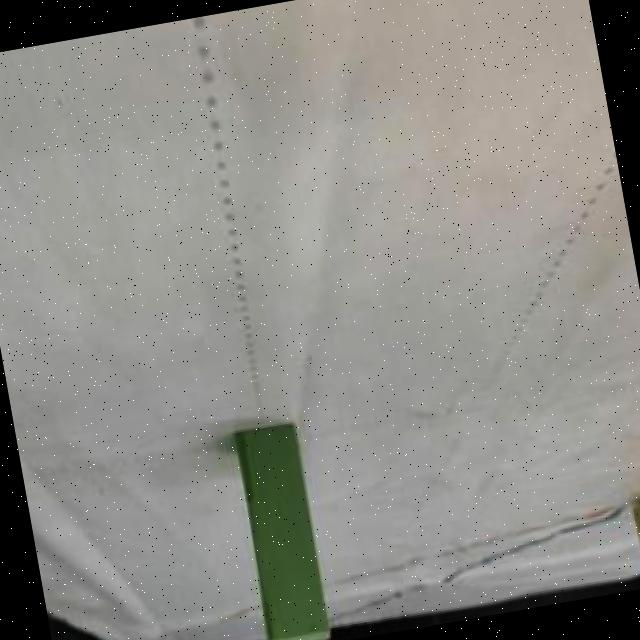greenbox: (228, 418, 335, 640)
